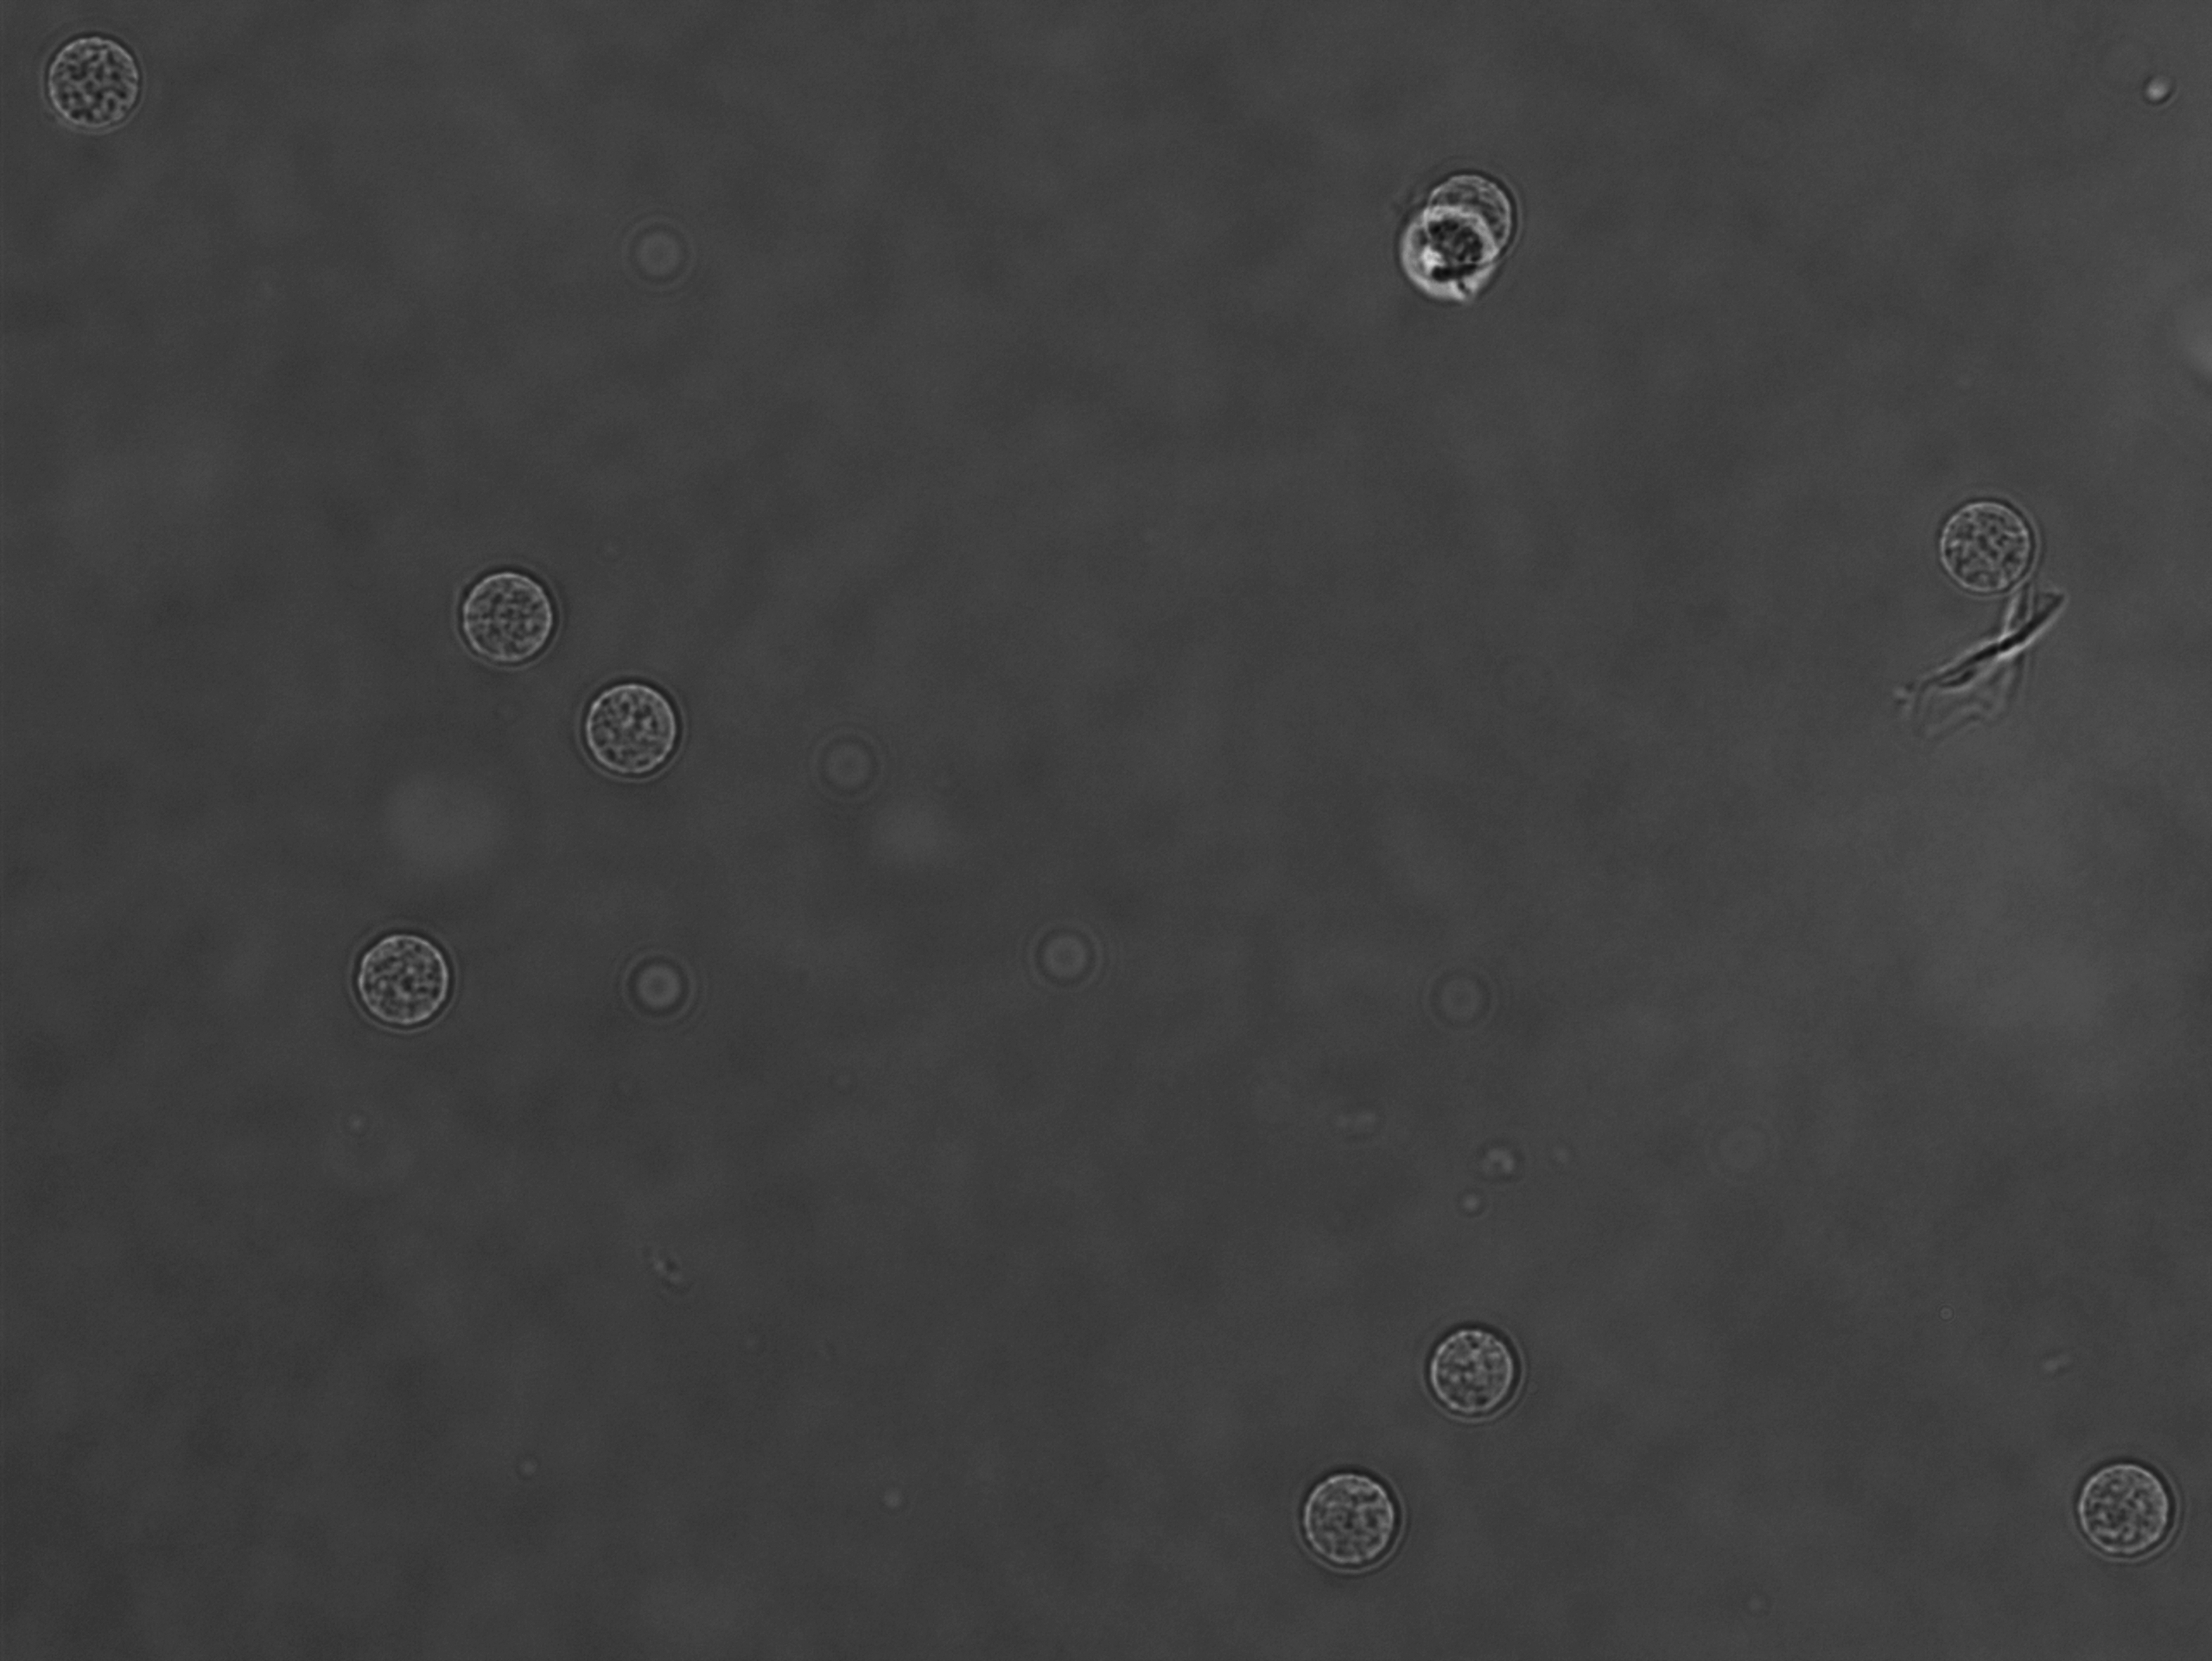depth:0: (1272, 1441, 1429, 1586), (2065, 1446, 2202, 1591), (1399, 1303, 1540, 1436), (31, 26, 169, 154), (1926, 473, 2064, 600), (324, 918, 462, 1043), (443, 550, 569, 679), (569, 680, 680, 792), (679, 787, 684, 796)
